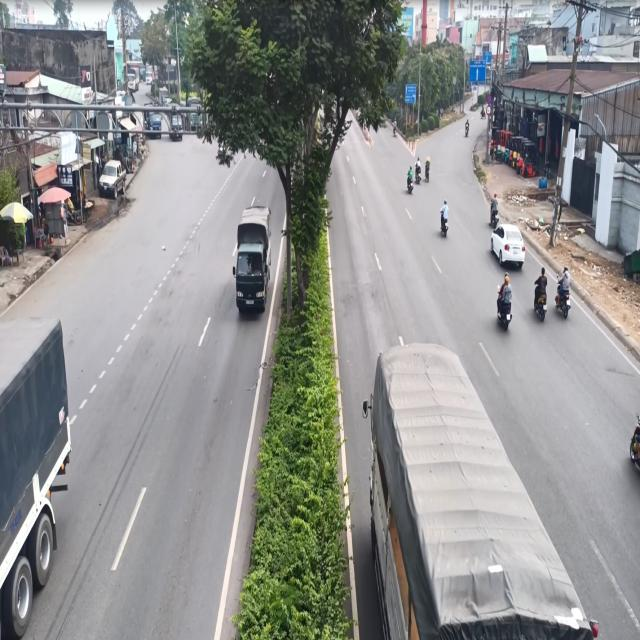motor: (491, 268, 516, 335), (532, 263, 550, 331), (556, 259, 572, 324), (440, 195, 449, 240), (406, 160, 415, 190)
truck: (361, 338, 604, 640), (231, 200, 274, 327)
